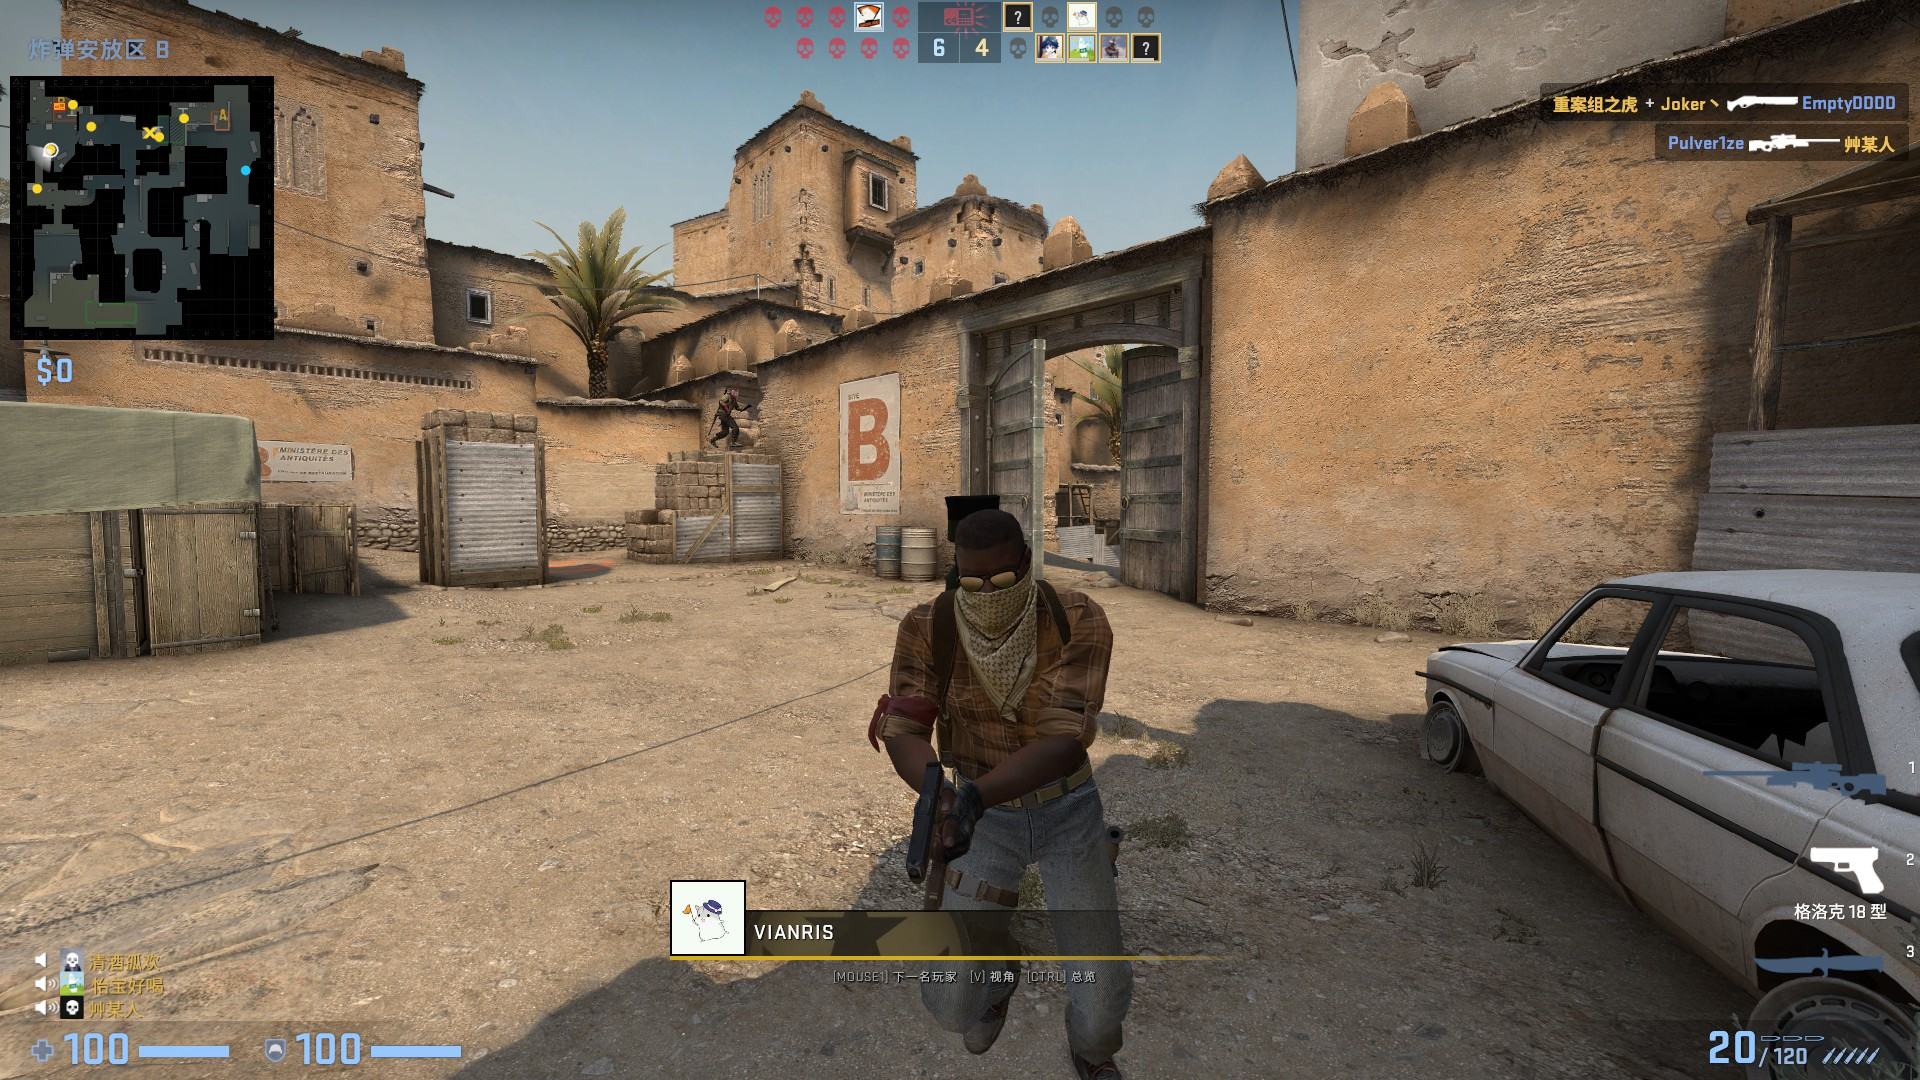head: (947, 507, 1036, 628), (729, 387, 739, 397)
